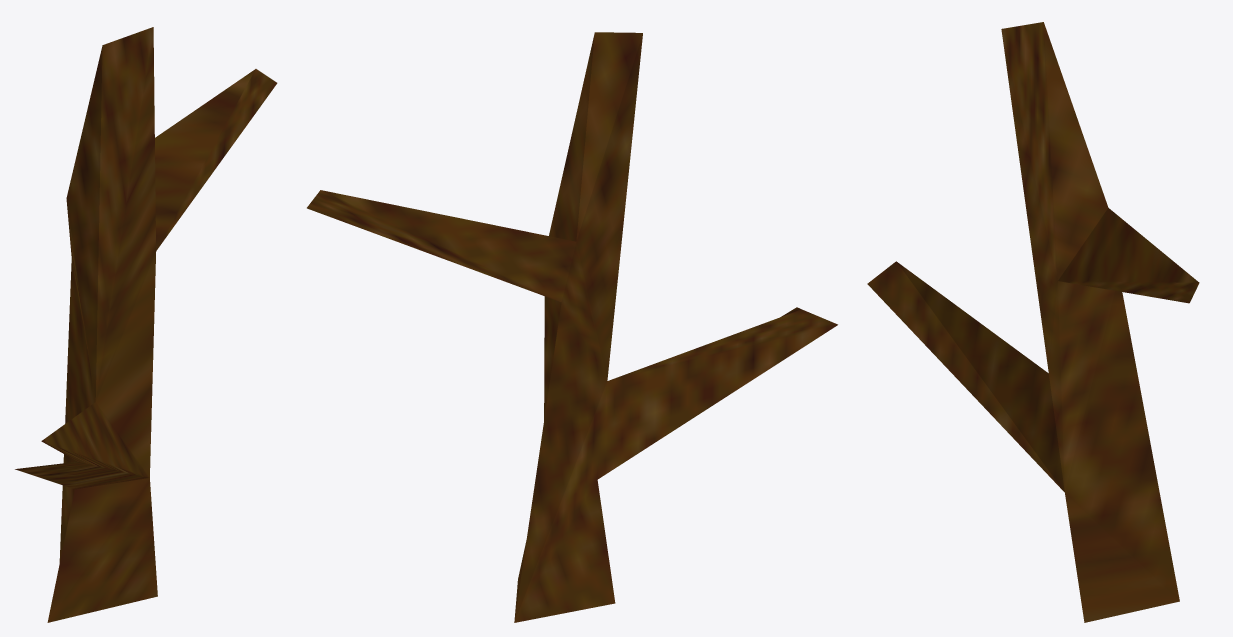
File: treebranch08.glb
3 renders of one model, left to right at view 1: azimuth 30°, elevation 25°; view 2: azimuth 150°, elevation 25°; view 3: azimuth 270°, elevation 25°, orthographic. The views are drawn at different scales.
Visible parts, largest first — view 1: treebranch08; view 2: treebranch08; view 3: treebranch08.
Boxes of the visible parts, box(x1,y1,x2,y2) form: treebranch08: box(15, 27, 277, 622); treebranch08: box(307, 32, 837, 622); treebranch08: box(867, 22, 1199, 622).
Size of the model in its own units: 476 by 652 by 364.
1 material, 1 textured.
